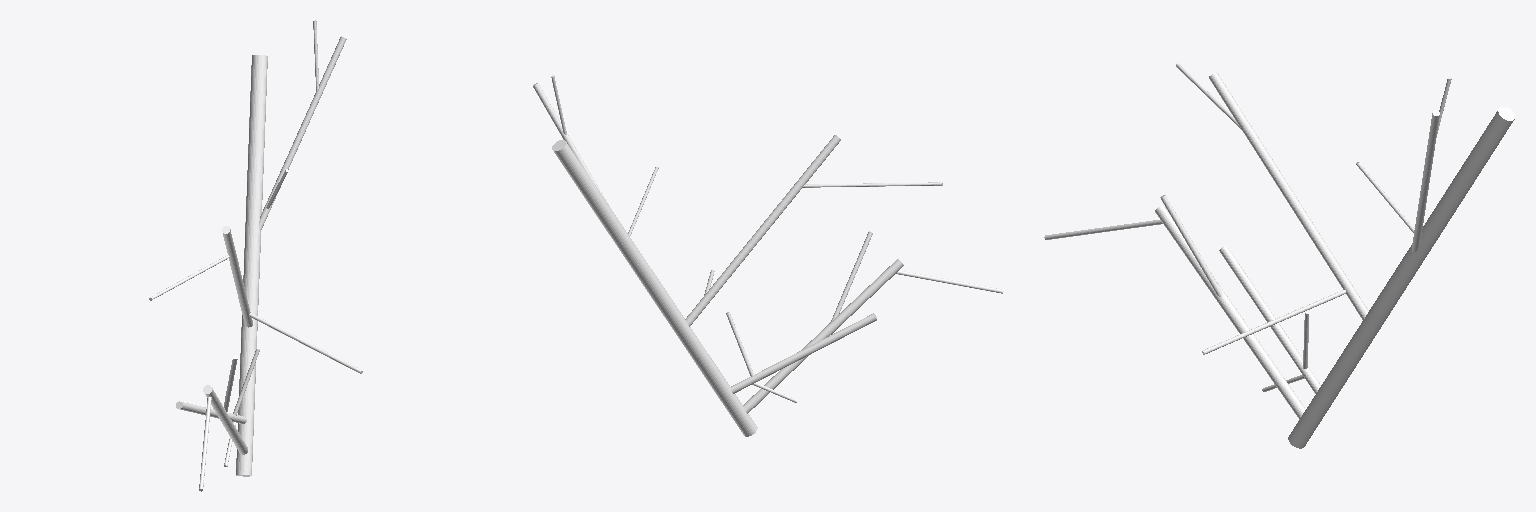
robot.urdf — tree_53.urdf:
<?xml version='1.0' encoding='UTF-8'?>
<robot name="tree_53.urdf">
  <link name="branch_0">
    <inertial>
      <origin xyz="0.0 0.0 0.0" rpy="0.0 -0.0 0.0"/>
      <mass value="1.0"/>
      <inertia ixx="1.0" ixy="0.0" ixz="0.0" iyy="1.0" iyz="0.0" izz="1.0"/>
    </inertial>
    <visual name="branch_0_visual">
      <geometry>
        <cylinder radius="0.19074390170984828" length="9.95344109381792"/>
      </geometry>
      <material name="branch_material"/>
      <origin xyz="1.4302745139039952 2.0994363526922184 4.279536098445357" rpy="0.0 0.5357012913595599 0.9727545080601914"/>
    </visual>
    <collision name="branch_0_collision">
      <geometry>
        <cylinder radius="0.19074390170984828" length="9.95344109381792"/>
      </geometry>
      <origin xyz="1.4302745139039952 2.0994363526922184 4.279536098445357" rpy="0.0 0.5357012913595599 0.9727545080601914"/>
    </collision>
  </link>
  <link name="branch_1">
    <inertial>
      <origin xyz="0.0 0.0 0.0" rpy="0.0 -0.0 0.0"/>
      <mass value="1.0"/>
      <inertia ixx="1.0" ixy="0.0" ixz="0.0" iyy="1.0" iyz="0.0" izz="1.0"/>
    </inertial>
    <visual name="branch_1_visual">
      <geometry>
        <cylinder radius="0.10066909281618026" length="5.938511161007292"/>
      </geometry>
      <material name="branch_material"/>
      <origin xyz="0.0 0.0 0.0" rpy="0.0 -0.0 0.0"/>
    </visual>
    <collision name="branch_1_collision">
      <geometry>
        <cylinder radius="0.10066909281618026" length="5.938511161007292"/>
      </geometry>
      <origin xyz="0.0 0.0 0.0" rpy="0.0 -0.0 0.0"/>
    </collision>
  </link>
  <link name="branch_2">
    <inertial>
      <origin xyz="0.0 0.0 0.0" rpy="0.0 -0.0 0.0"/>
      <mass value="1.0"/>
      <inertia ixx="1.0" ixy="0.0" ixz="0.0" iyy="1.0" iyz="0.0" izz="1.0"/>
    </inertial>
    <visual name="branch_2_visual">
      <geometry>
        <cylinder radius="0.04" length="3.4533436462932277"/>
      </geometry>
      <material name="branch_material"/>
      <origin xyz="0.0 0.0 0.0" rpy="0.0 -0.0 0.0"/>
    </visual>
    <collision name="branch_2_collision">
      <geometry>
        <cylinder radius="0.04" length="3.4533436462932277"/>
      </geometry>
      <origin xyz="0.0 0.0 0.0" rpy="0.0 -0.0 0.0"/>
    </collision>
  </link>
  <link name="branch_3">
    <inertial>
      <origin xyz="0.0 0.0 0.0" rpy="0.0 -0.0 0.0"/>
      <mass value="1.0"/>
      <inertia ixx="1.0" ixy="0.0" ixz="0.0" iyy="1.0" iyz="0.0" izz="1.0"/>
    </inertial>
    <visual name="branch_3_visual">
      <geometry>
        <cylinder radius="0.04708070390101402" length="3.341150964505131"/>
      </geometry>
      <material name="branch_material"/>
      <origin xyz="0.0 0.0 0.0" rpy="0.0 -0.0 0.0"/>
    </visual>
    <collision name="branch_3_collision">
      <geometry>
        <cylinder radius="0.04708070390101402" length="3.341150964505131"/>
      </geometry>
      <origin xyz="0.0 0.0 0.0" rpy="0.0 -0.0 0.0"/>
    </collision>
  </link>
  <link name="branch_4">
    <inertial>
      <origin xyz="0.0 0.0 0.0" rpy="0.0 -0.0 0.0"/>
      <mass value="1.0"/>
      <inertia ixx="1.0" ixy="0.0" ixz="0.0" iyy="1.0" iyz="0.0" izz="1.0"/>
    </inertial>
    <visual name="branch_4_visual">
      <geometry>
        <cylinder radius="0.11284697912045588" length="5.326104541912933"/>
      </geometry>
      <material name="branch_material"/>
      <origin xyz="0.0 0.0 0.0" rpy="0.0 -0.0 0.0"/>
    </visual>
    <collision name="branch_4_collision">
      <geometry>
        <cylinder radius="0.11284697912045588" length="5.326104541912933"/>
      </geometry>
      <origin xyz="0.0 0.0 0.0" rpy="0.0 -0.0 0.0"/>
    </collision>
  </link>
  <link name="branch_5">
    <inertial>
      <origin xyz="0.0 0.0 0.0" rpy="0.0 -0.0 0.0"/>
      <mass value="1.0"/>
      <inertia ixx="1.0" ixy="0.0" ixz="0.0" iyy="1.0" iyz="0.0" izz="1.0"/>
    </inertial>
    <visual name="branch_5_visual">
      <geometry>
        <cylinder radius="0.04935887163773997" length="3.1614943563971205"/>
      </geometry>
      <material name="branch_material"/>
      <origin xyz="0.0 0.0 0.0" rpy="0.0 -0.0 0.0"/>
    </visual>
    <collision name="branch_5_collision">
      <geometry>
        <cylinder radius="0.04935887163773997" length="3.1614943563971205"/>
      </geometry>
      <origin xyz="0.0 0.0 0.0" rpy="0.0 -0.0 0.0"/>
    </collision>
  </link>
  <link name="branch_6">
    <inertial>
      <origin xyz="0.0 0.0 0.0" rpy="0.0 -0.0 0.0"/>
      <mass value="1.0"/>
      <inertia ixx="1.0" ixy="0.0" ixz="0.0" iyy="1.0" iyz="0.0" izz="1.0"/>
    </inertial>
    <visual name="branch_6_visual">
      <geometry>
        <cylinder radius="0.058316573684280476" length="2.516807348951992"/>
      </geometry>
      <material name="branch_material"/>
      <origin xyz="0.0 0.0 0.0" rpy="0.0 -0.0 0.0"/>
    </visual>
    <collision name="branch_6_collision">
      <geometry>
        <cylinder radius="0.058316573684280476" length="2.516807348951992"/>
      </geometry>
      <origin xyz="0.0 0.0 0.0" rpy="0.0 -0.0 0.0"/>
    </collision>
  </link>
  <link name="branch_7">
    <inertial>
      <origin xyz="0.0 0.0 0.0" rpy="0.0 -0.0 0.0"/>
      <mass value="1.0"/>
      <inertia ixx="1.0" ixy="0.0" ixz="0.0" iyy="1.0" iyz="0.0" izz="1.0"/>
    </inertial>
    <visual name="branch_7_visual">
      <geometry>
        <cylinder radius="0.07740069882426179" length="5.268678159873508"/>
      </geometry>
      <material name="branch_material"/>
      <origin xyz="0.0 0.0 0.0" rpy="0.0 -0.0 0.0"/>
    </visual>
    <collision name="branch_7_collision">
      <geometry>
        <cylinder radius="0.07740069882426179" length="5.268678159873508"/>
      </geometry>
      <origin xyz="0.0 0.0 0.0" rpy="0.0 -0.0 0.0"/>
    </collision>
  </link>
  <link name="branch_8">
    <inertial>
      <origin xyz="0.0 0.0 0.0" rpy="0.0 -0.0 0.0"/>
      <mass value="1.0"/>
      <inertia ixx="1.0" ixy="0.0" ixz="0.0" iyy="1.0" iyz="0.0" izz="1.0"/>
    </inertial>
    <visual name="branch_8_visual">
      <geometry>
        <cylinder radius="0.04" length="1.8036124585757716"/>
      </geometry>
      <material name="branch_material"/>
      <origin xyz="0.0 0.0 0.0" rpy="0.0 -0.0 0.0"/>
    </visual>
    <collision name="branch_8_collision">
      <geometry>
        <cylinder radius="0.04" length="1.8036124585757716"/>
      </geometry>
      <origin xyz="0.0 0.0 0.0" rpy="0.0 -0.0 0.0"/>
    </collision>
  </link>
  <link name="branch_9">
    <inertial>
      <origin xyz="0.0 0.0 0.0" rpy="0.0 -0.0 0.0"/>
      <mass value="1.0"/>
      <inertia ixx="1.0" ixy="0.0" ixz="0.0" iyy="1.0" iyz="0.0" izz="1.0"/>
    </inertial>
    <visual name="branch_9_visual">
      <geometry>
        <cylinder radius="0.04" length="1.947606207595956"/>
      </geometry>
      <material name="branch_material"/>
      <origin xyz="0.0 0.0 0.0" rpy="0.0 -0.0 0.0"/>
    </visual>
    <collision name="branch_9_collision">
      <geometry>
        <cylinder radius="0.04" length="1.947606207595956"/>
      </geometry>
      <origin xyz="0.0 0.0 0.0" rpy="0.0 -0.0 0.0"/>
    </collision>
  </link>
  <link name="branch_10">
    <inertial>
      <origin xyz="0.0 0.0 0.0" rpy="0.0 -0.0 0.0"/>
      <mass value="1.0"/>
      <inertia ixx="1.0" ixy="0.0" ixz="0.0" iyy="1.0" iyz="0.0" izz="1.0"/>
    </inertial>
    <visual name="branch_10_visual">
      <geometry>
        <cylinder radius="0.09259848948929722" length="4.073885800656122"/>
      </geometry>
      <material name="branch_material"/>
      <origin xyz="0.0 0.0 0.0" rpy="0.0 -0.0 0.0"/>
    </visual>
    <collision name="branch_10_collision">
      <geometry>
        <cylinder radius="0.09259848948929722" length="4.073885800656122"/>
      </geometry>
      <origin xyz="0.0 0.0 0.0" rpy="0.0 -0.0 0.0"/>
    </collision>
  </link>
  <link name="branch_11">
    <inertial>
      <origin xyz="0.0 0.0 0.0" rpy="0.0 -0.0 0.0"/>
      <mass value="1.0"/>
      <inertia ixx="1.0" ixy="0.0" ixz="0.0" iyy="1.0" iyz="0.0" izz="1.0"/>
    </inertial>
    <visual name="branch_11_visual">
      <geometry>
        <cylinder radius="0.04746343382234564" length="1.7582901793052743"/>
      </geometry>
      <material name="branch_material"/>
      <origin xyz="0.0 0.0 0.0" rpy="0.0 -0.0 0.0"/>
    </visual>
    <collision name="branch_11_collision">
      <geometry>
        <cylinder radius="0.04746343382234564" length="1.7582901793052743"/>
      </geometry>
      <origin xyz="0.0 0.0 0.0" rpy="0.0 -0.0 0.0"/>
    </collision>
  </link>
  <link name="branch_12">
    <inertial>
      <origin xyz="0.0 0.0 0.0" rpy="0.0 -0.0 0.0"/>
      <mass value="1.0"/>
      <inertia ixx="1.0" ixy="0.0" ixz="0.0" iyy="1.0" iyz="0.0" izz="1.0"/>
    </inertial>
    <visual name="branch_12_visual">
      <geometry>
        <cylinder radius="0.042987620266815955" length="1.3755050298541336"/>
      </geometry>
      <material name="branch_material"/>
      <origin xyz="0.0 0.0 0.0" rpy="0.0 -0.0 0.0"/>
    </visual>
    <collision name="branch_12_collision">
      <geometry>
        <cylinder radius="0.042987620266815955" length="1.3755050298541336"/>
      </geometry>
      <origin xyz="0.0 0.0 0.0" rpy="0.0 -0.0 0.0"/>
    </collision>
  </link>
  <joint name="joint_0_1" type="fixed">
    <parent link="branch_0"/>
    <child link="branch_1"/>
    <axis xyz="1. 0. 0."/>
    <origin xyz="-0.21714578131223297 -0.09421987660097726 5.2292963436081035" rpy="0.030838994147854022 0.7439919045109193 -2.1861876001904164"/>
  </joint>
  <joint name="joint_0_4" type="fixed">
    <parent link="branch_0"/>
    <child link="branch_4"/>
    <axis xyz="1. 0. 0."/>
    <origin xyz="-1.204034773852253 -1.2564536585358863 2.2134808560006634" rpy="0.08586289668654067 0.8591248143523311 -2.1983912841913633"/>
  </joint>
  <joint name="joint_0_7" type="fixed">
    <parent link="branch_0"/>
    <child link="branch_7"/>
    <axis xyz="1. 0. 0."/>
    <origin xyz="2.9647057812283033 2.566163598814582 7.0184976795941605" rpy="-0.5190800099615537 0.20288295097009895 -1.0707360531172827"/>
  </joint>
  <joint name="joint_0_10" type="fixed">
    <parent link="branch_0"/>
    <child link="branch_10"/>
    <axis xyz="1. 0. 0."/>
    <origin xyz="-1.1164645118384138 -0.45988753589314724 2.073065415118391" rpy="0.33988884077094333 1.048375846769221 -2.1596508961668355"/>
  </joint>
  <joint name="joint_1_2" type="fixed">
    <parent link="branch_0"/>
    <child link="branch_2"/>
    <axis xyz="1. 0. 0."/>
    <origin xyz="-2.3714699894843125 -1.6282891530426185 6.383411575973507" rpy="-1.4447486556069598 1.1674787138474805 2.140971033753284"/>
  </joint>
  <joint name="joint_1_3" type="fixed">
    <parent link="branch_0"/>
    <child link="branch_3"/>
    <axis xyz="1. 0. 0."/>
    <origin xyz="1.4003505141750094 -0.41144022349440335 3.3015794849778546" rpy="1.9104473730943154 0.8782448221725648 0.7279332824946535"/>
  </joint>
  <joint name="joint_4_5" type="fixed">
    <parent link="branch_0"/>
    <child link="branch_5"/>
    <axis xyz="1. 0. 0."/>
    <origin xyz="-3.232989278597678 -3.7917607547885086 3.1693426766491313" rpy="2.8308215017853495 1.1817083534262147 0.6414101987072286"/>
  </joint>
  <joint name="joint_4_6" type="fixed">
    <parent link="branch_0"/>
    <child link="branch_6"/>
    <axis xyz="1. 0. 0."/>
    <origin xyz="-1.5751695118445936 -2.060674745762888 3.5015366904209904" rpy="0.4409436913042862 -0.3334242780827092 0.2895112773985592"/>
  </joint>
  <joint name="joint_7_8" type="fixed">
    <parent link="branch_0"/>
    <child link="branch_8"/>
    <axis xyz="1. 0. 0."/>
    <origin xyz="3.6239573891870256 2.859812701196248 8.857464282975922" rpy="0.23465598287025852 -0.025413038390208878 2.899831434105412"/>
  </joint>
  <joint name="joint_7_9" type="fixed">
    <parent link="branch_0"/>
    <child link="branch_9"/>
    <axis xyz="1. 0. 0."/>
    <origin xyz="1.954177115446561 1.812354421419309 6.254456535457724" rpy="-0.4553944345521913 0.5157452019124872 -2.4839875729983323"/>
  </joint>
  <joint name="joint_10_11" type="fixed">
    <parent link="branch_0"/>
    <child link="branch_11"/>
    <axis xyz="1. 0. 0."/>
    <origin xyz="0.161684368981398 0.18686927687163787 2.2820048731827733" rpy="0.1962628775274182 0.36236226198439647 0.5658606543948311"/>
  </joint>
  <joint name="joint_10_12" type="fixed">
    <parent link="branch_0"/>
    <child link="branch_12"/>
    <axis xyz="1. 0. 0."/>
    <origin xyz="-0.48885028834761535 -0.21777027599381724 1.068404888784436" rpy="2.728706067297484 0.9817122078437253 0.3674507884604241"/>
  </joint>
  <material name="branch_material">
    <color rgba="1. 1. 1. 1."/>
  </material>
</robot>

--- Render facts (derived) ---
Views: 3 orthographic renders of the robot side by side, from view 1: azimuth 30°, elevation 25°; view 2: azimuth 150°, elevation 25°; view 3: azimuth 270°, elevation 25°.
Robot: tree_53.urdf — 13 links, 12 joints (12 fixed); root link branch_0; default pose: every joint at zero.
Links seen in each view (by area): view 1: branch_0, branch_7, branch_1, branch_4; view 2: branch_0, branch_1, branch_4, branch_10, branch_7; view 3: branch_0, branch_1, branch_4, branch_10, branch_7, branch_3, branch_6, branch_5.
Link boxes in pixels (x1=…): branch_0: x1=236, y1=55, x2=267, y2=476; branch_7: x1=259, y1=36, x2=346, y2=230; branch_1: x1=222, y1=226, x2=252, y2=327; branch_4: x1=203, y1=385, x2=247, y2=454; branch_0: x1=552, y1=140, x2=757, y2=436; branch_1: x1=685, y1=135, x2=840, y2=326; branch_4: x1=743, y1=259, x2=903, y2=413; branch_10: x1=731, y1=313, x2=876, y2=393; branch_7: x1=533, y1=83, x2=608, y2=204; branch_0: x1=1288, y1=107, x2=1515, y2=448; branch_1: x1=1209, y1=72, x2=1368, y2=319; branch_4: x1=1155, y1=205, x2=1305, y2=419; branch_10: x1=1219, y1=246, x2=1320, y2=393; branch_7: x1=1412, y1=110, x2=1439, y2=252; branch_3: x1=1202, y1=290, x2=1345, y2=354; branch_6: x1=1160, y1=195, x2=1222, y2=296; branch_5: x1=1044, y1=220, x2=1162, y2=239.
Size in the robot's own frame: 8.5 by 9.41 by 9.84 metres.
Geometry: primitives only (box / cylinder / sphere), no mesh files.